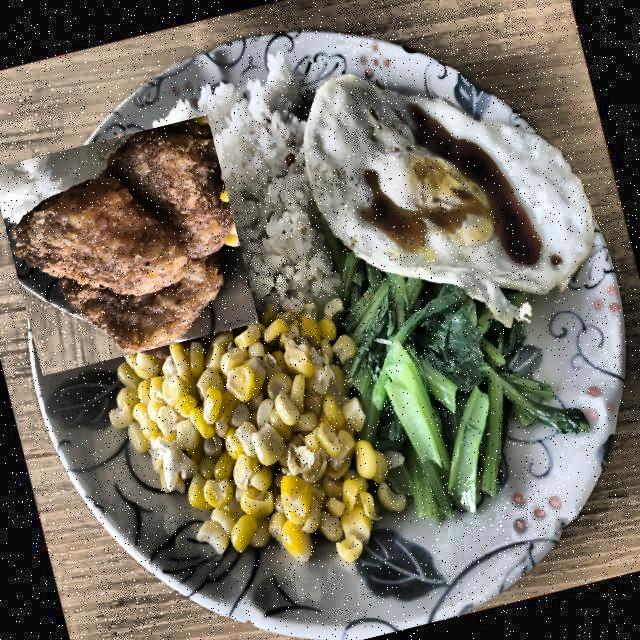Food: (287, 24, 607, 337), (0, 112, 257, 377), (337, 246, 568, 538), (154, 66, 338, 324)
